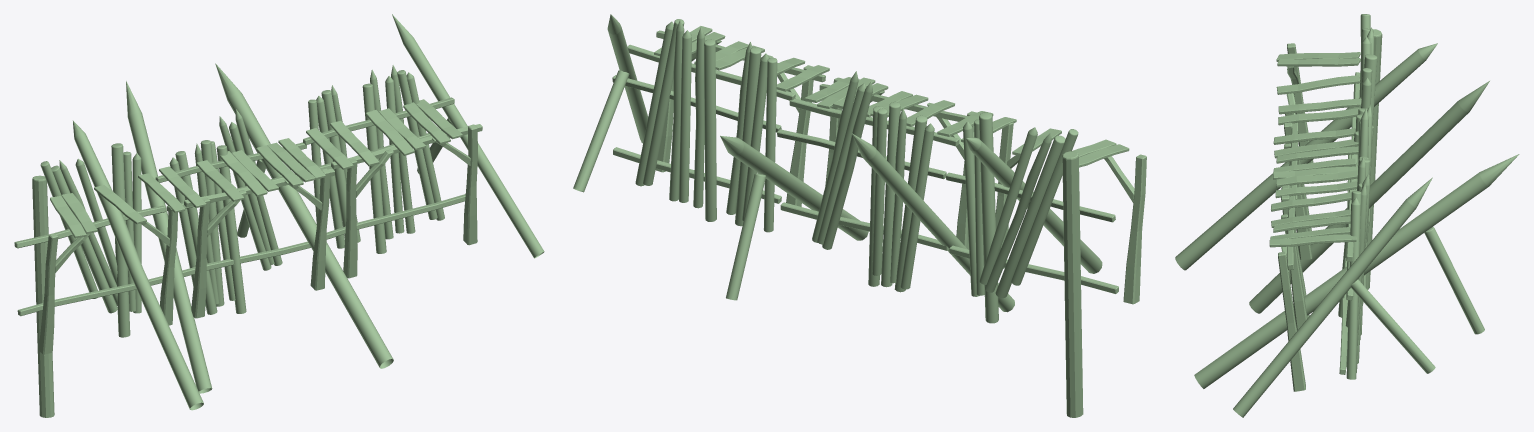
The model's file is Spiked_wall_02.FBX.
3 renders of one model, left to right at view 1: azimuth 30°, elevation 25°; view 2: azimuth 150°, elevation 25°; view 3: azimuth 270°, elevation 25°, orthographic. The views are drawn at different scales.
Parts seen in each view (by area): view 1: Spiked_wall_02; view 2: Spiked_wall_02; view 3: Spiked_wall_02.
Part boxes in pixels (bbox=[...]): Spiked_wall_02: bbox=[14, 14, 544, 417]; Spiked_wall_02: bbox=[573, 14, 1146, 417]; Spiked_wall_02: bbox=[1175, 14, 1519, 417].
Size of the model in its own units: 1002 by 579 by 582.
